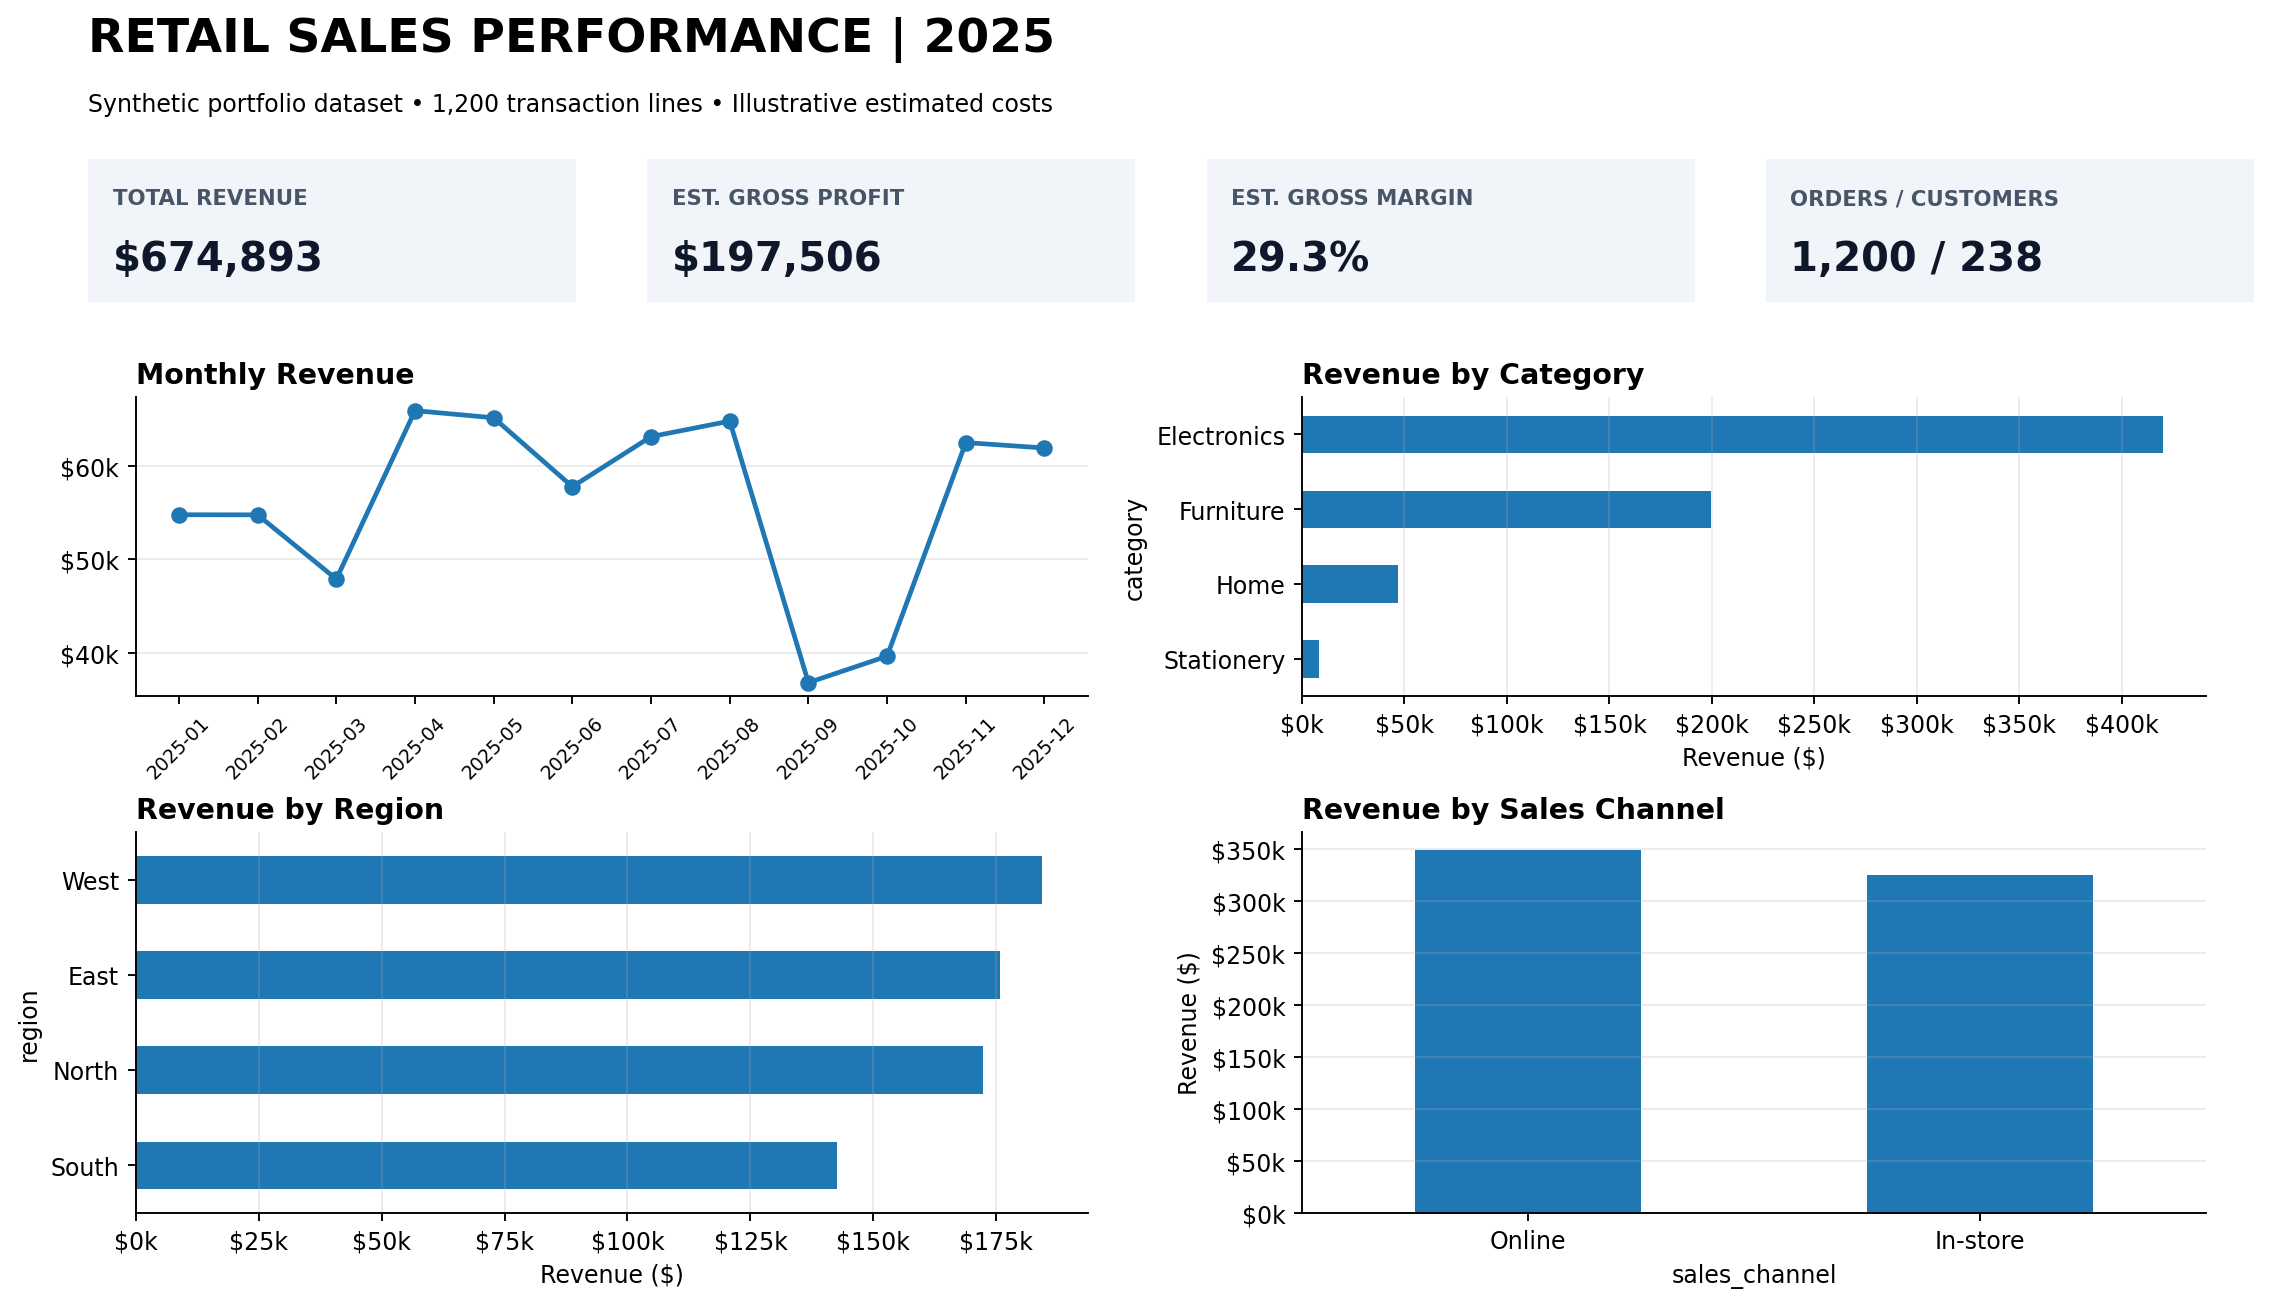

The page's visual inventory and layout, read from the dashboard file:
{"tool":"powerbi","page":{"name":"Page 1","canvas":[1920,1080],"ordinal":0},"visuals":[{"type":"columnChart","fields":{"Category":["retail_sales_sample.category"],"Y":["retail_sales_sample.Total Revenue"]},"box":[339.4,645.1,774.5,435.1],"z":0},{"type":"cardVisual","fields":{"Data":["retail_sales_sample.Estimated Gross Profit"]},"box":[0,711.2,325.7,150.2],"z":1000},{"type":"cardVisual","fields":{"Data":["retail_sales_sample.Total Orders"]},"box":[0,877.7,325.7,144.8],"z":2000},{"type":"clusteredColumnChart","fields":{"Category":["retail_sales_sample.region"],"Y":["retail_sales_sample.Total Revenue"]},"box":[339.4,189.4,774.5,437],"z":3000},{"type":"lineChart","fields":{"Category":["retail_sales_sample.order_date.Variation.Date Hierarchy.Month"],"Y":["retail_sales_sample.Total Revenue"]},"box":[1127.1,187.5,770.8,437],"z":4000},{"type":"donutChart","fields":{"Category":["retail_sales_sample.sales_channel"],"Y":["retail_sales_sample.Total Revenue"]},"box":[1127.1,643.3,770.8,435.1],"z":5000},{"type":"slicer","fields":{"Values":["retail_sales_sample.region","retail_sales_sample.category","retail_sales_sample.sales_channel"]},"box":[5.6,189.4,313.2,174.4],"z":6000},{"type":"cardVisual","fields":{"Data":["retail_sales_sample.Total Revenue"]},"box":[0,376.9,326.3,150],"z":7000},{"type":"cardVisual","fields":{"Data":["retail_sales_sample.Estimated Gross Margin %"]},"box":[0,539.3,325.7,157.4],"z":8000},{"type":"textbox","box":[434.3,36.2,1058.7,101.3],"z":9000}]}

Visuals, with their boxes in screenshot pixels (x1, y1, x2, y2), scaled from the page's 1920x1080 canvas onto the 2270x1305 screenshot:
columnChart - retail_sales_sample.category x retail_sales_sample.Total Revenue: detection(401, 779, 1317, 1304)
cardVisual - retail_sales_sample.Estimated Gross Profit: detection(0, 859, 385, 1041)
cardVisual - retail_sales_sample.Total Orders: detection(0, 1061, 385, 1236)
clusteredColumnChart - retail_sales_sample.region x retail_sales_sample.Total Revenue: detection(401, 229, 1317, 757)
lineChart - retail_sales_sample.order_date.Variation.Date Hierarchy.Month x retail_sales_sample.Total Revenue: detection(1333, 227, 2244, 755)
donutChart - retail_sales_sample.sales_channel x retail_sales_sample.Total Revenue: detection(1333, 777, 2244, 1303)
slicer - retail_sales_sample.region x retail_sales_sample.category: detection(7, 229, 377, 440)
cardVisual - retail_sales_sample.Total Revenue: detection(0, 455, 386, 637)
cardVisual - retail_sales_sample.Estimated Gross Margin %: detection(0, 652, 385, 842)
textbox: detection(513, 44, 1765, 166)
